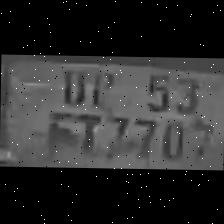0: (155, 115, 186, 161)
3: (171, 72, 200, 114)
5: (140, 68, 173, 113)
7: (100, 111, 128, 159), (126, 113, 155, 158), (186, 116, 214, 160)
P: (82, 64, 116, 106)
U: (55, 63, 90, 106)
